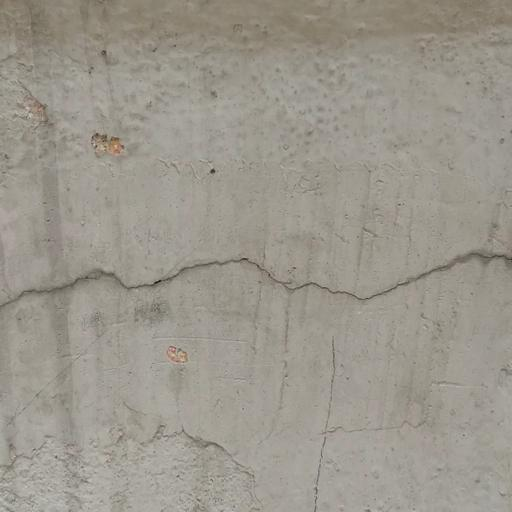minor_crack: (0, 228, 512, 316), (295, 331, 447, 512)
